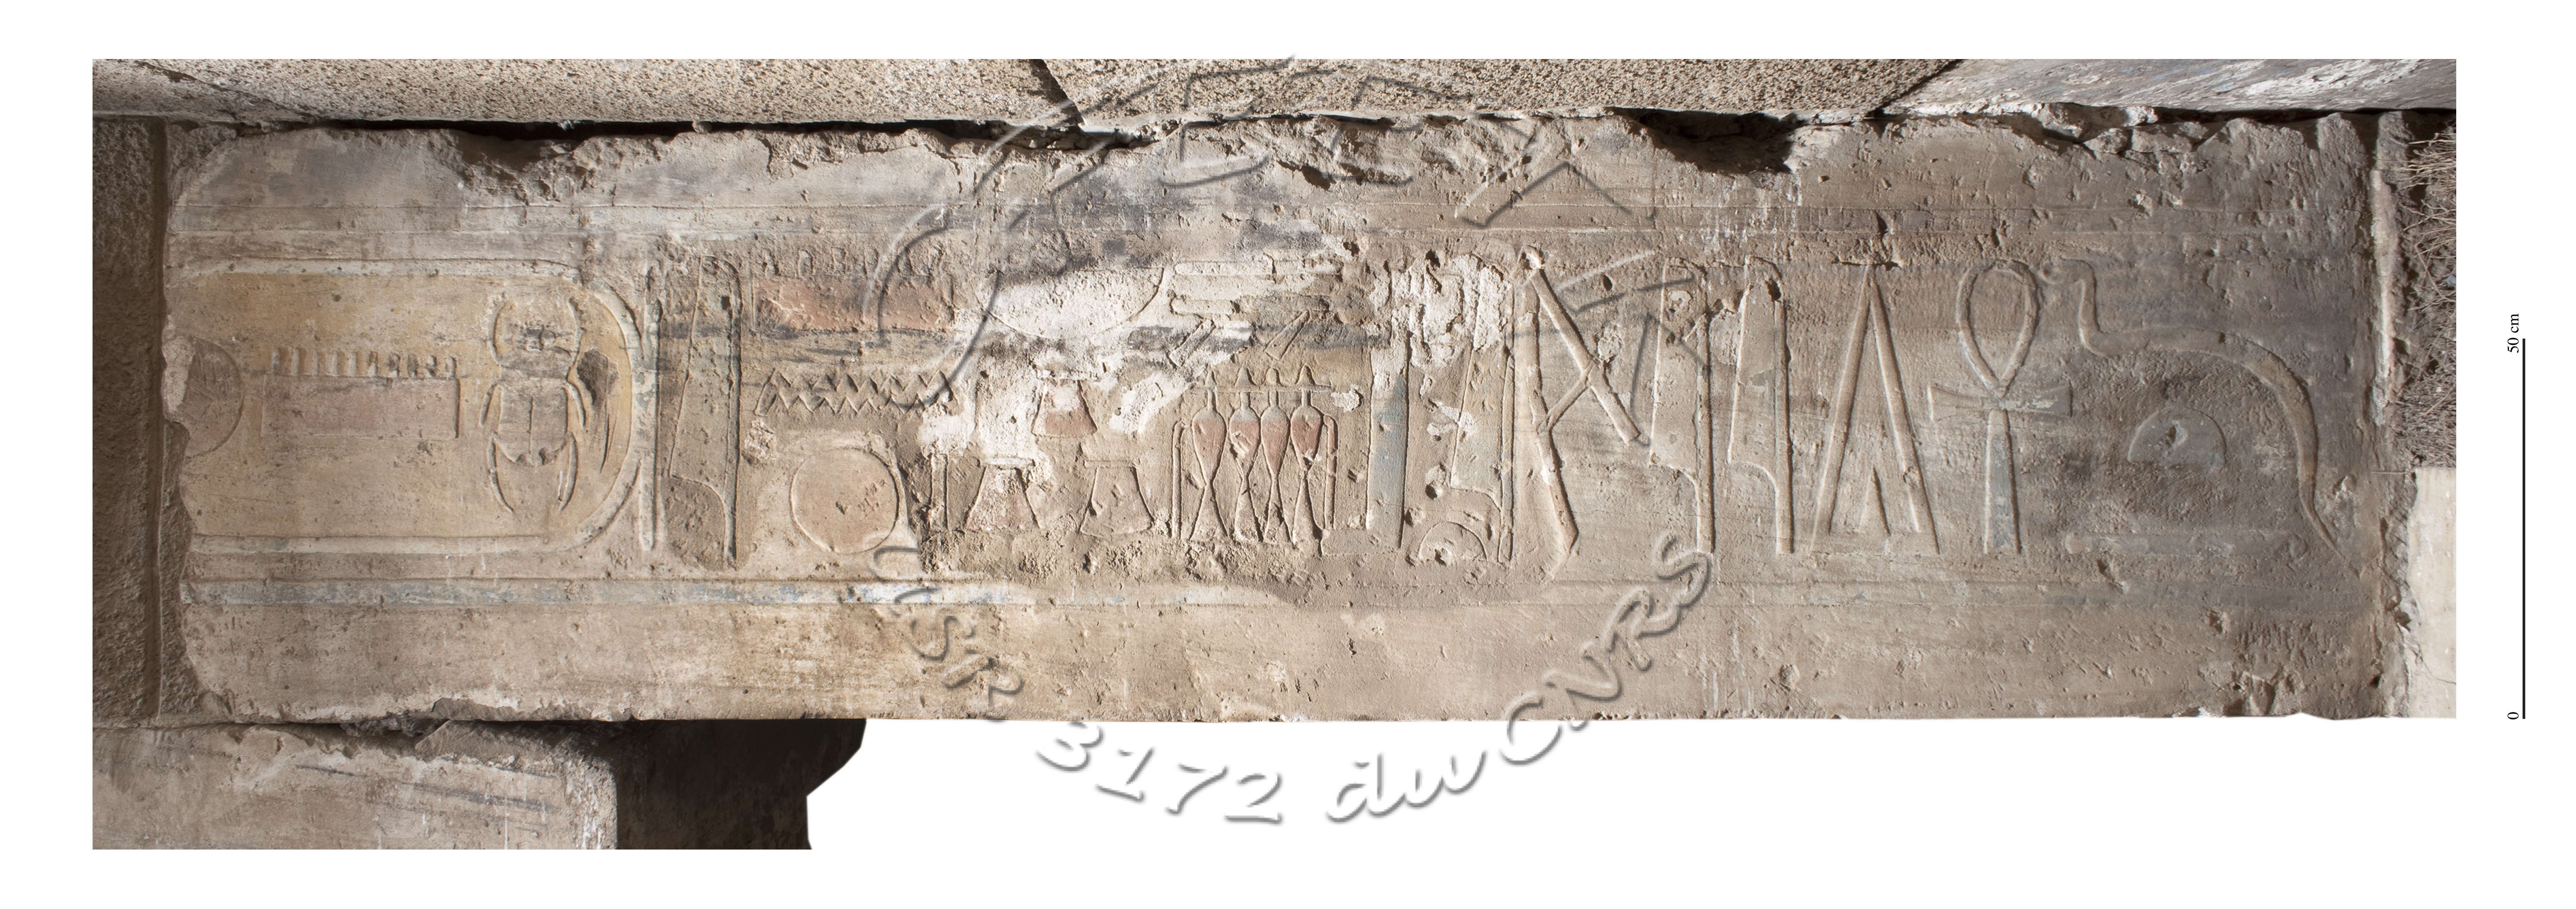I10: (2016, 243, 2359, 577)
M17: (1710, 242, 1825, 587), (657, 235, 772, 575), (1635, 248, 1741, 570), (1447, 255, 1544, 580)
N35: (736, 357, 968, 442)
X8: (1799, 237, 1962, 588)
